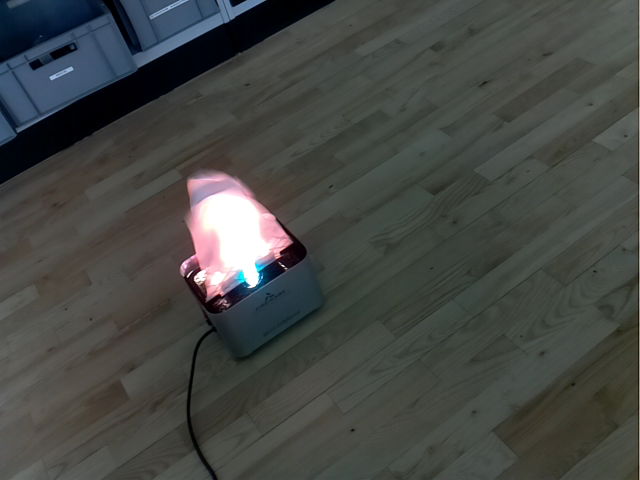fire: (186, 169, 293, 301)
